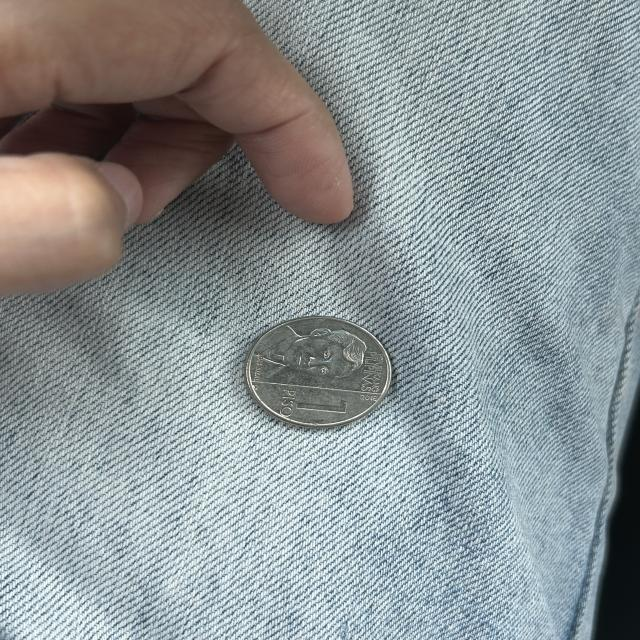1_New_Front: (276, 387, 350, 424)
